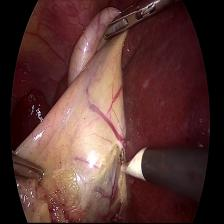Grasper: (103, 0, 175, 46), (12, 143, 44, 192)
Hook: (116, 139, 147, 189)
